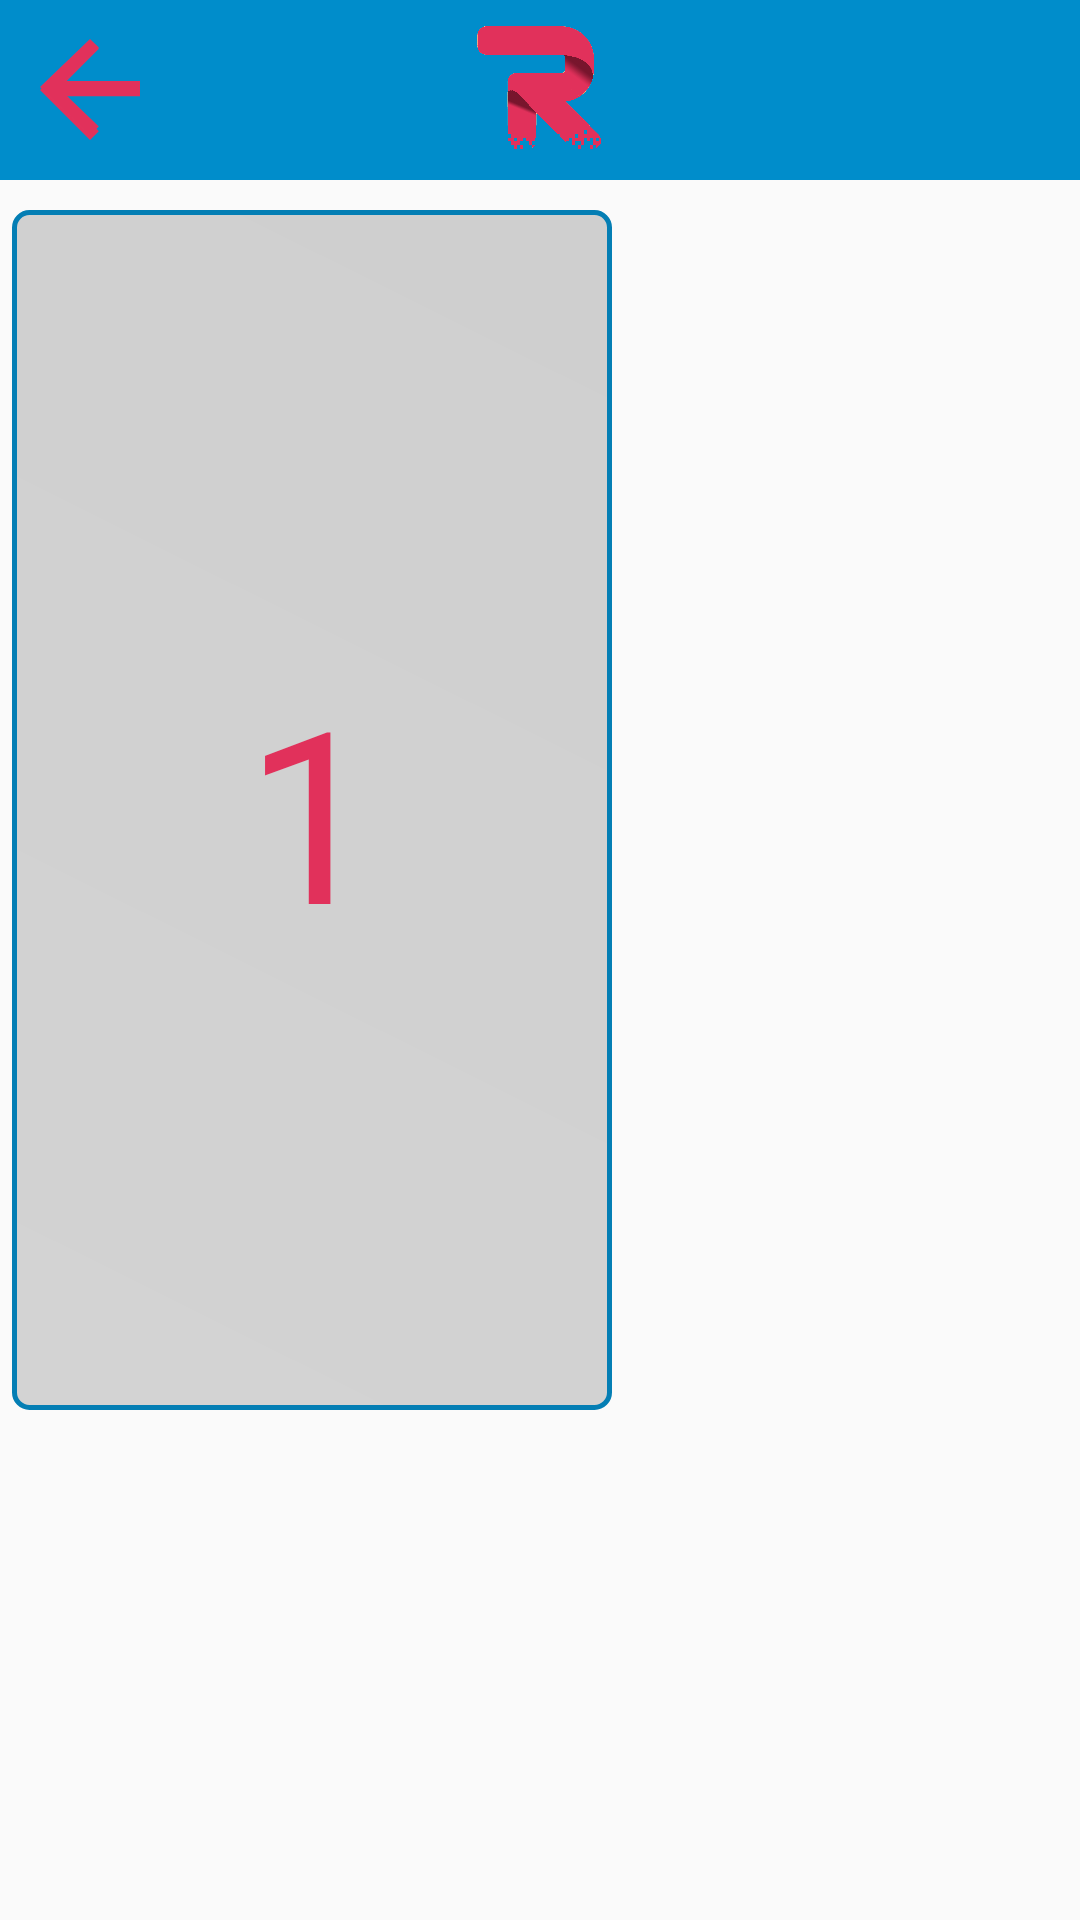

Icon bounding boxes for this 1080×1920 phone screenshot, format rect(x1, y1, x2, y2):
backbutton: rect(40, 39, 140, 140)
